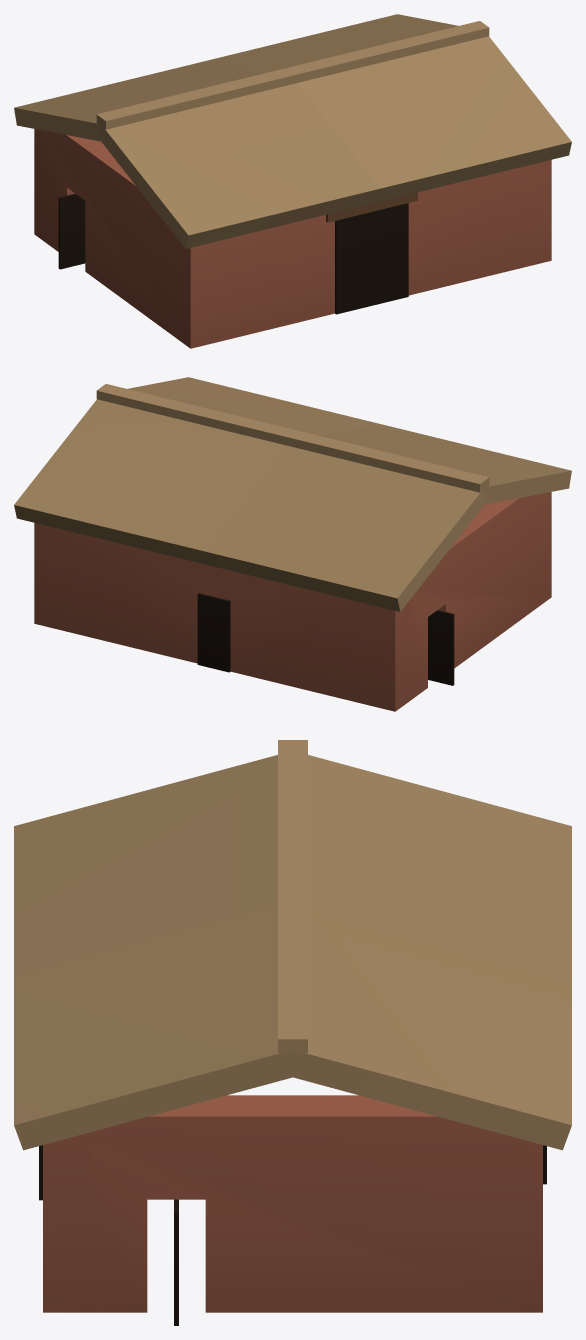
File: republic_magazine_lod1.glb
3 views of the same model, one above another, from view 1: azimuth 30°, elevation 25°; view 2: azimuth 150°, elevation 25°; view 3: azimuth 270°, elevation 25° (orthographic). The views are drawn at different scales.
Visible parts, largest first — view 1: GEO-Arch_republic_magazine_LOD1; view 2: GEO-Arch_republic_magazine_LOD1; view 3: GEO-Arch_republic_magazine_LOD1.
Boxes of the visible parts, x1,y1,x2,y2 form: GEO-Arch_republic_magazine_LOD1: [14, 14, 571, 348]; GEO-Arch_republic_magazine_LOD1: [14, 377, 571, 711]; GEO-Arch_republic_magazine_LOD1: [14, 740, 571, 1325].
Size of the model in its own units: 8.74 by 3.74 by 6.7.
